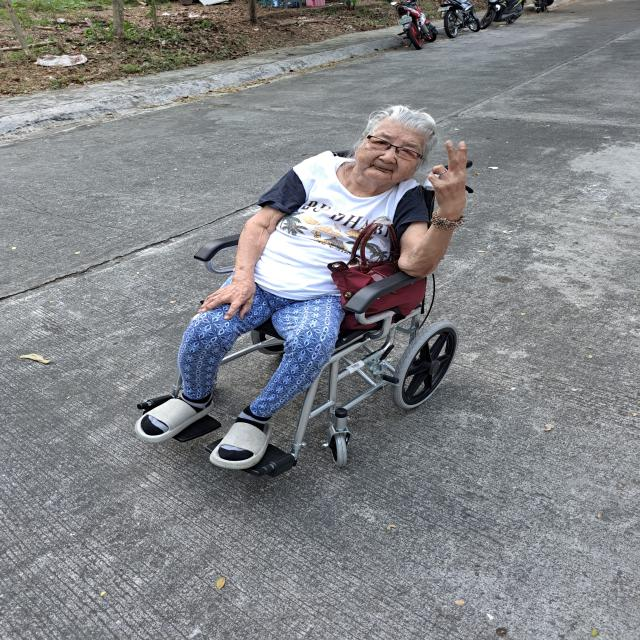wheelchairs: (137, 148, 475, 481)
